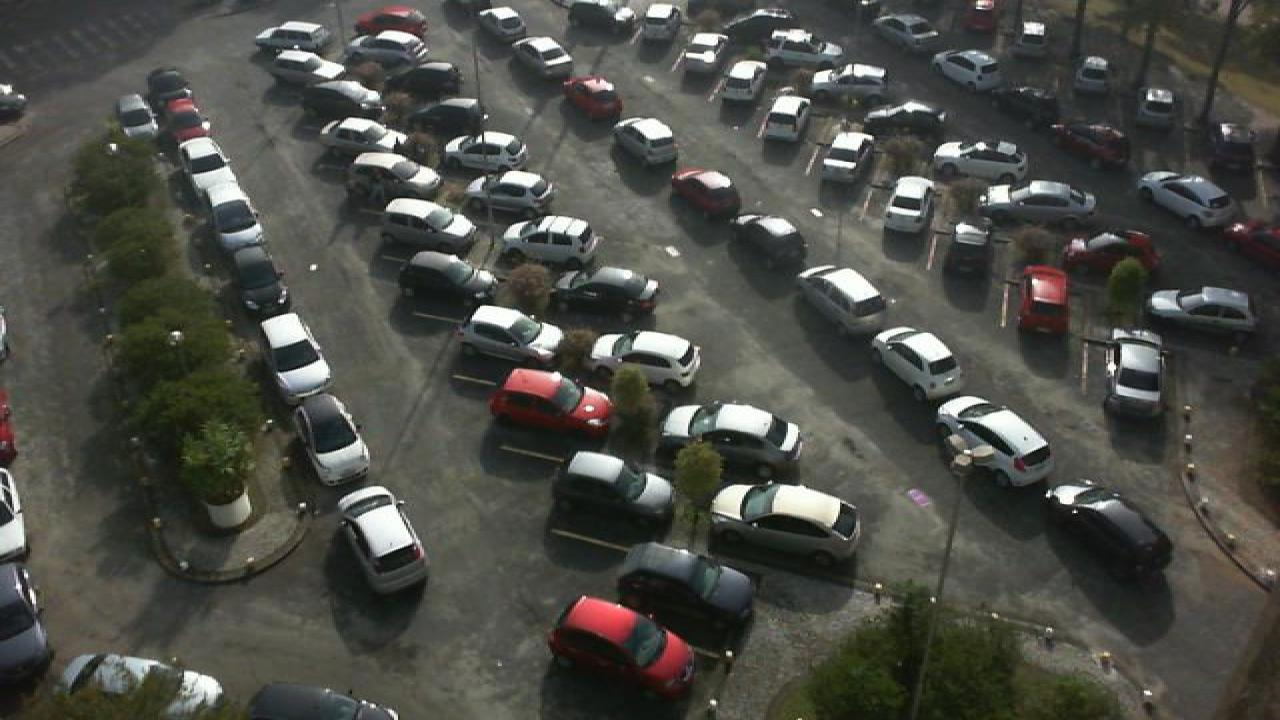Car: (544, 594, 696, 700), (1042, 478, 1174, 587), (612, 538, 758, 636), (708, 481, 864, 567), (36, 652, 230, 720), (934, 394, 1056, 488), (548, 449, 676, 533), (660, 399, 806, 472), (332, 485, 428, 594), (486, 367, 612, 442), (290, 392, 372, 486), (792, 264, 890, 340), (868, 326, 968, 400), (0, 559, 54, 692), (590, 328, 704, 390), (456, 302, 568, 364), (258, 309, 334, 397), (978, 179, 1100, 232), (394, 250, 498, 312), (1146, 285, 1260, 341), (1136, 168, 1232, 230), (1104, 328, 1168, 418), (248, 683, 400, 720), (378, 196, 480, 250), (1058, 227, 1158, 281), (566, 264, 662, 320), (502, 214, 602, 266), (930, 138, 1030, 187), (348, 150, 442, 200), (1012, 264, 1074, 336), (1048, 118, 1132, 171), (730, 214, 804, 270), (470, 170, 556, 218), (318, 114, 410, 158), (666, 168, 742, 221), (756, 27, 844, 71), (444, 132, 528, 178), (194, 173, 252, 235), (290, 78, 370, 122), (406, 96, 486, 140), (612, 116, 678, 168), (254, 53, 342, 92), (860, 98, 946, 135), (344, 30, 432, 66), (930, 48, 1002, 92), (870, 11, 942, 55), (818, 130, 876, 184), (234, 269, 292, 323), (882, 173, 934, 233), (950, 216, 998, 280), (382, 61, 462, 99), (560, 73, 622, 122), (508, 35, 574, 81), (752, 92, 808, 146), (218, 226, 272, 280), (352, 5, 432, 40), (0, 464, 28, 564), (176, 136, 230, 187), (254, 19, 324, 56), (808, 73, 858, 123), (566, 0, 636, 35), (160, 98, 212, 145), (712, 61, 760, 110), (146, 66, 196, 112), (1132, 84, 1178, 130), (638, 1, 686, 41), (474, 4, 526, 40), (954, 0, 1000, 37), (1070, 53, 1110, 93), (1014, 19, 1054, 57)
